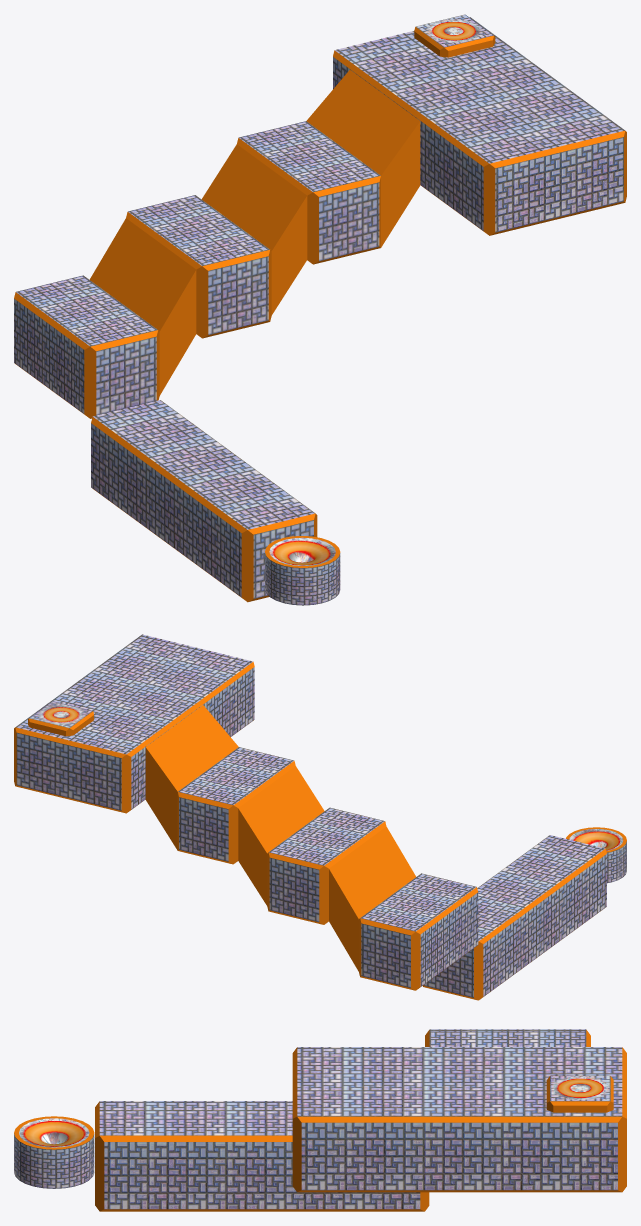
The model's file is Level07.fbx.
3 views of the same model, one above another, from view 1: azimuth 30°, elevation 25°; view 2: azimuth 150°, elevation 25°; view 3: azimuth 270°, elevation 25° (orthographic). The views are drawn at different scales.
Parts seen in each view (by area): view 1: Level07; view 2: Level07; view 3: Level07.
Part boxes in pixels (x1,y1,x2,y2): Level07: (14,14,626,605); Level07: (14,634,626,1000); Level07: (14,1029,626,1211).
Size of the model in its own units: 2081 by 1232 by 2197.
Materials: 7 (5 with a texture image).
